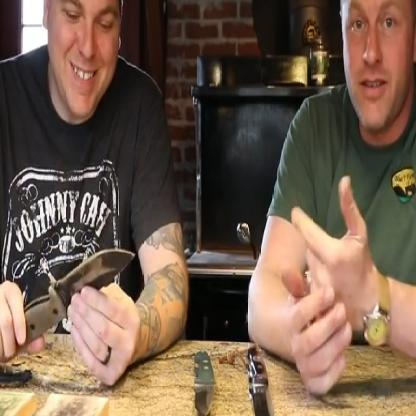knife: (31, 231, 146, 334)
